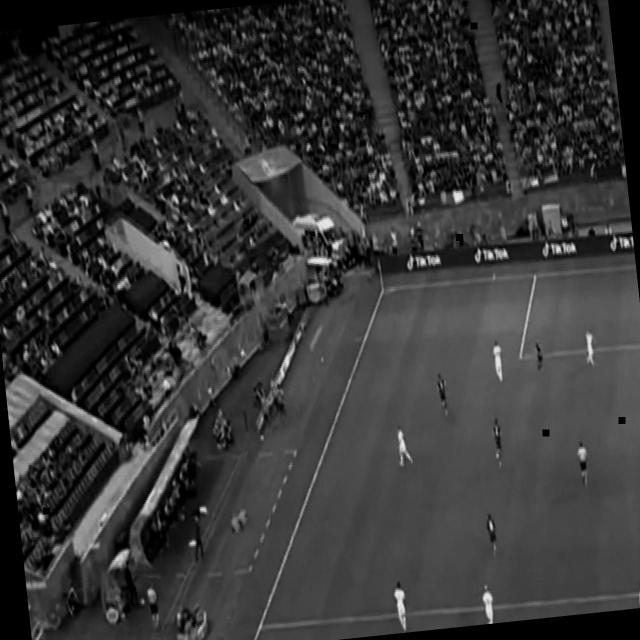player-white: (489, 414, 508, 473), (390, 578, 410, 634), (572, 437, 592, 492), (394, 422, 416, 472), (432, 369, 452, 423), (580, 321, 600, 371), (145, 578, 162, 632), (489, 336, 507, 386), (483, 510, 501, 560), (477, 582, 497, 624), (532, 337, 548, 378)
